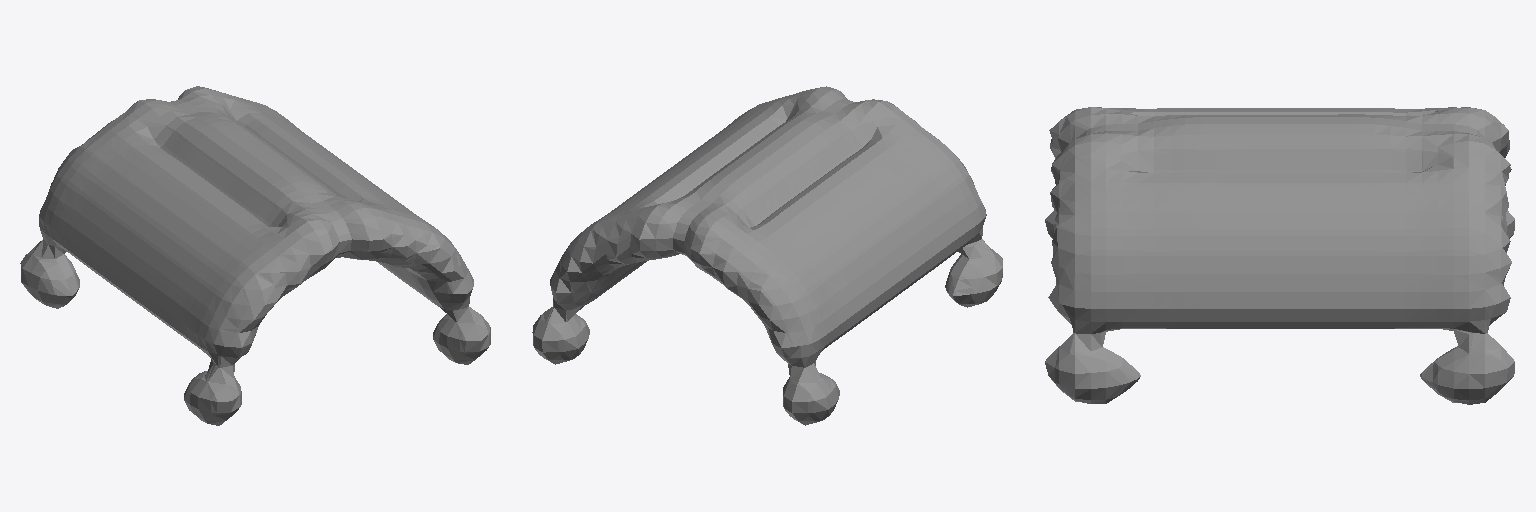
URDF robot description (cube.urdf):
<?xml version="0.0" ?> 
<robot name="cube.urdf"> 
<link name="legobrick"> 
<contact> 
<lateral_friction value="5.0"/> 
<rolling_friction value="0.0"/> 
<contact_cfm value="0.0"/> 
<contact_erp value="1.0"/> 
</contact> 
<inertial> 
<origin rpy="0 0 0" xyz="0.0 0.0 0.0"/> 
<mass value=".01"/> 
<inertia ixx="1" ixy="0" ixz="0" iyy="1" iyz="0" izz="1"/> 
</inertial> 
<visual> 
<origin rpy="1.570796 0 0" xyz="-0.031449364775333125 0.031432337370798605 -0.04688248857692077"/> 
<geometry> 
<mesh filename="S15_3.obj" scale="0.0006599320774148371 0.0006599320774148371 0.0006599320774148371"/> 
</geometry> 
<material name="yellow"> 
<color rgba="0.6 0.6 0.6 1"/> 
</material> 
</visual> 
<collision> 
<origin rpy="1.570796 0 0" xyz="-0.031449364775333125 0.031432337370798605 -0.04688248857692077"/> 
<geometry> 
<mesh filename="S15_3.obj" scale="0.0006599320774148371 0.0006599320774148371 0.0006599320774148371"/> 
</geometry> 
</collision> 
</link> 
</robot>

--- What the picture shows (computed from the rendered views, not written in the file) ---
The picture shows the robot from 3 angles, left to right: view 1: azimuth 30°, elevation 25°; view 2: azimuth 150°, elevation 25°; view 3: azimuth 270°, elevation 25°; orthographic projection.
Robot: cube.urdf — 1 links, 0 joints (none); root link legobrick; default pose: all joints at 0.
Links seen in each view (by area): view 1: legobrick; view 2: legobrick; view 3: legobrick.
Boxes of the visible links, x1=… form: legobrick: x1=20, y1=86, x2=490, y2=425; legobrick: x1=532, y1=86, x2=1002, y2=425; legobrick: x1=1045, y1=107, x2=1514, y2=404.
Bounding box of the posed robot: 0.056 × 0.066 × 0.0328 m (x, y, z).
Meshes: 1 distinct files referenced, 1 mesh visuals loaded (1 OBJ).
